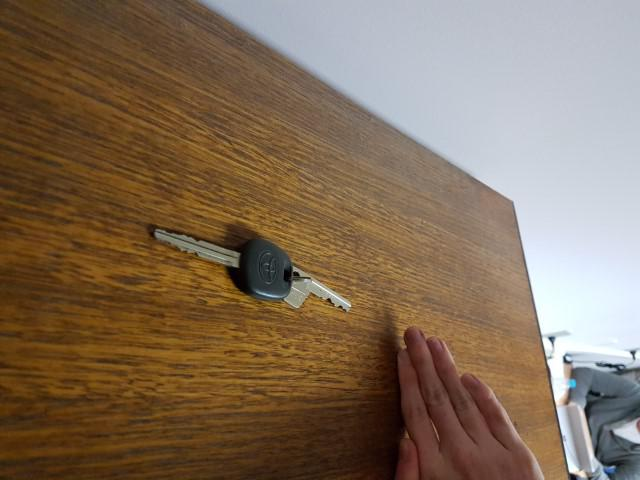key: (154, 227, 292, 301)
